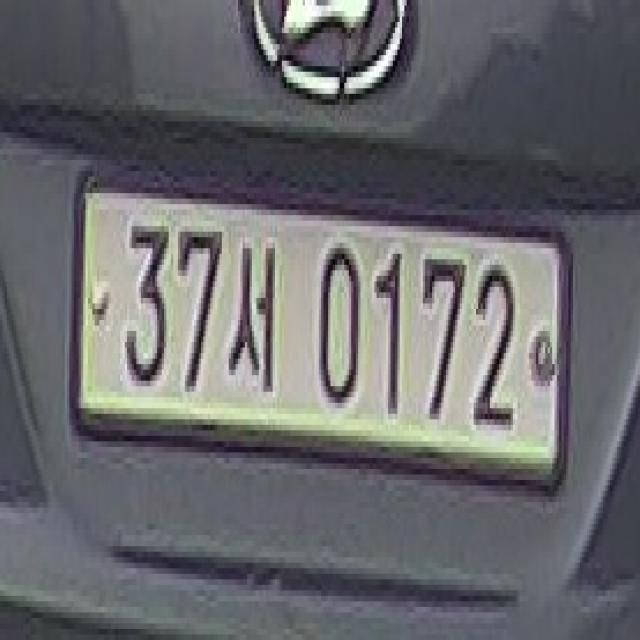0: (316, 243, 361, 408)
1: (374, 248, 404, 420)
2: (467, 254, 518, 430)
3: (127, 221, 173, 386)
7: (418, 248, 467, 420), (176, 226, 224, 392)
license_plate: (74, 171, 566, 491)
seo: (227, 237, 280, 397)
